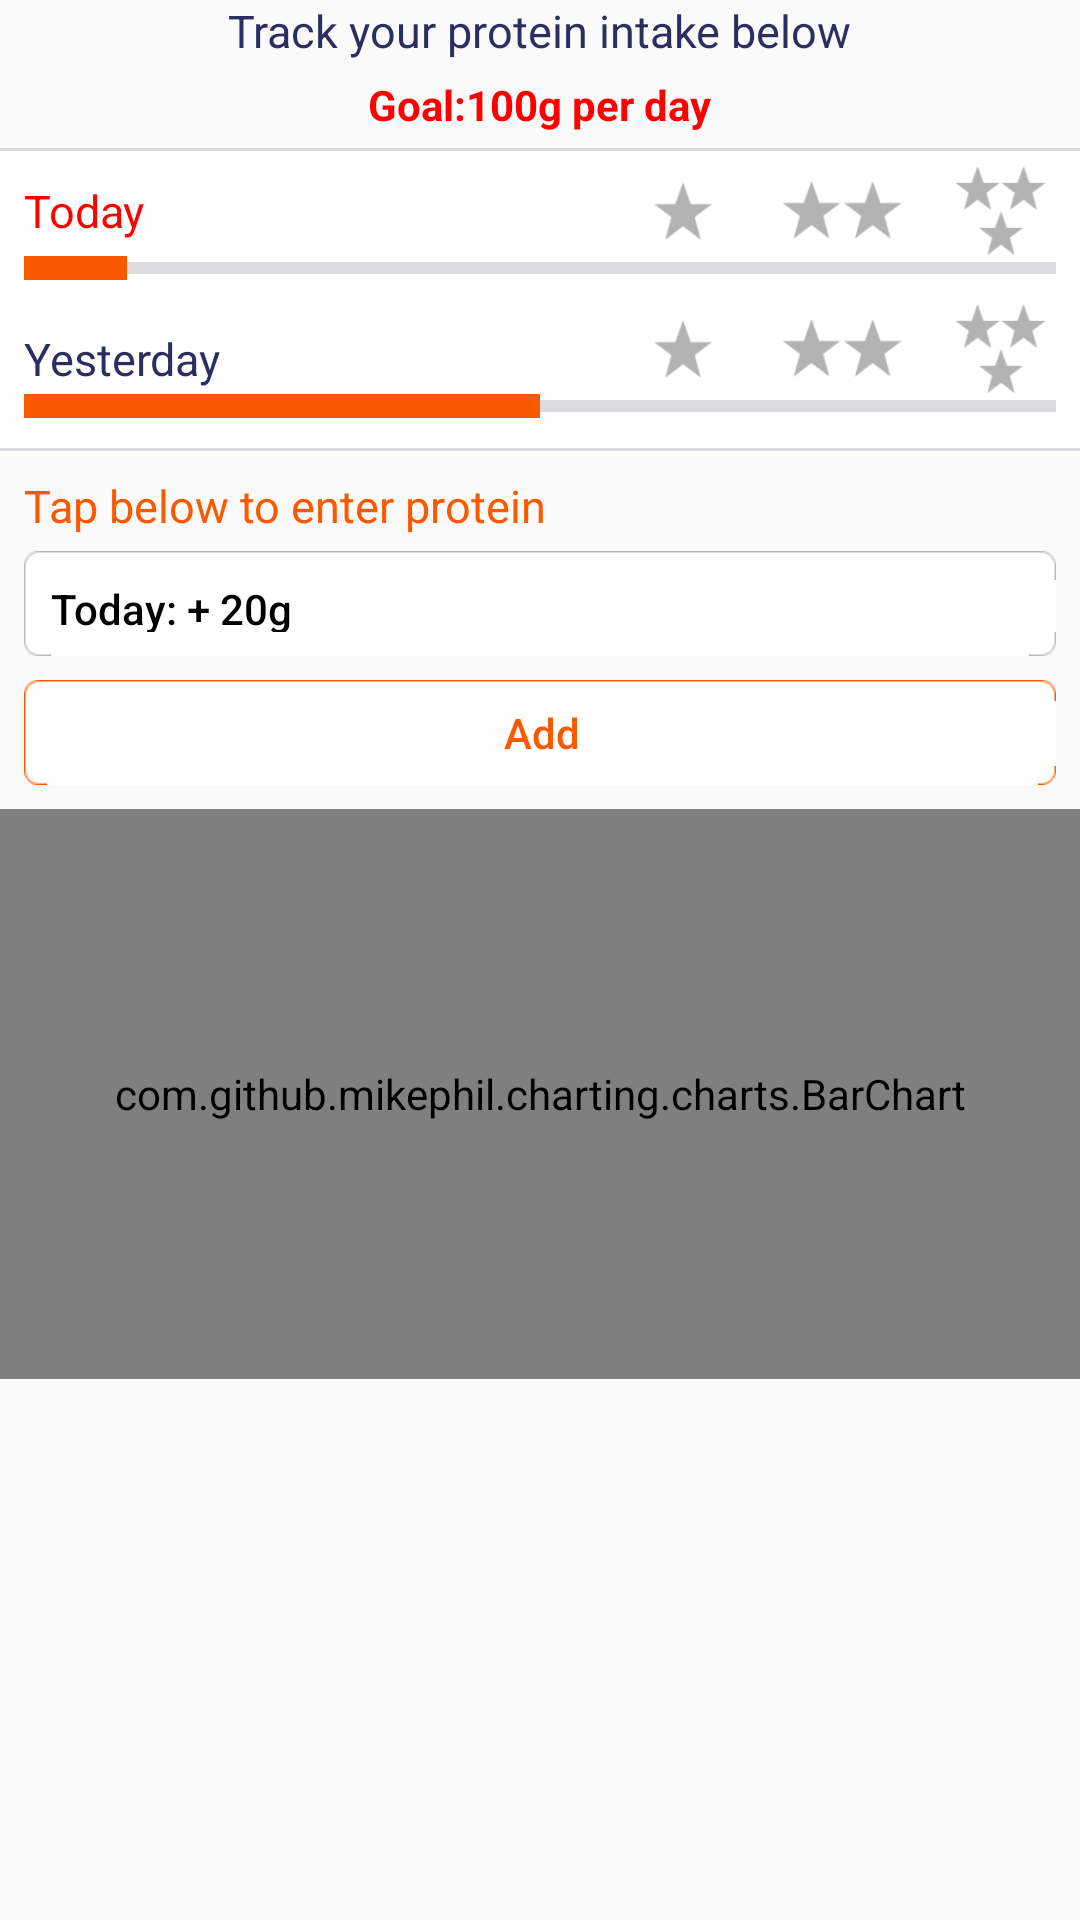

Icons on this 1080px x 1920px Android screen, each with its box as box=[x1, y1, x2, y2]:
onestar: box=[655, 183, 711, 239], box=[655, 321, 711, 377]
tripstar: box=[956, 167, 1045, 254], box=[956, 305, 1045, 392]
twostar: box=[783, 182, 901, 238], box=[783, 320, 901, 376]
